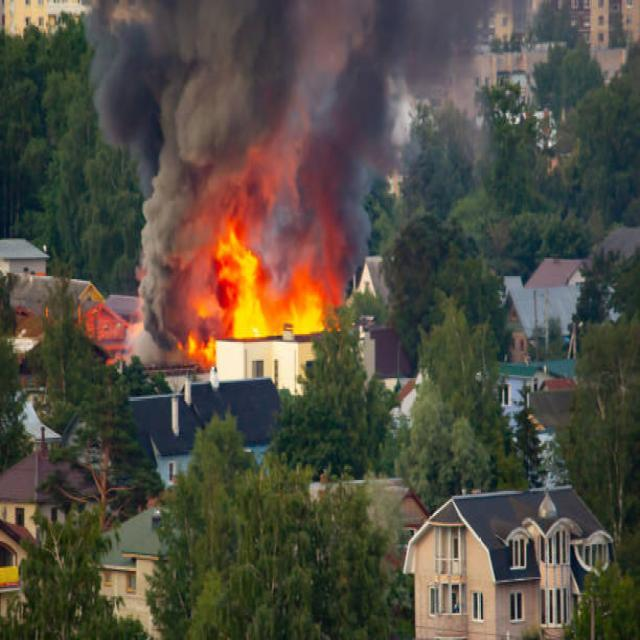Fire: (86, 3, 387, 284), (172, 187, 329, 336)
